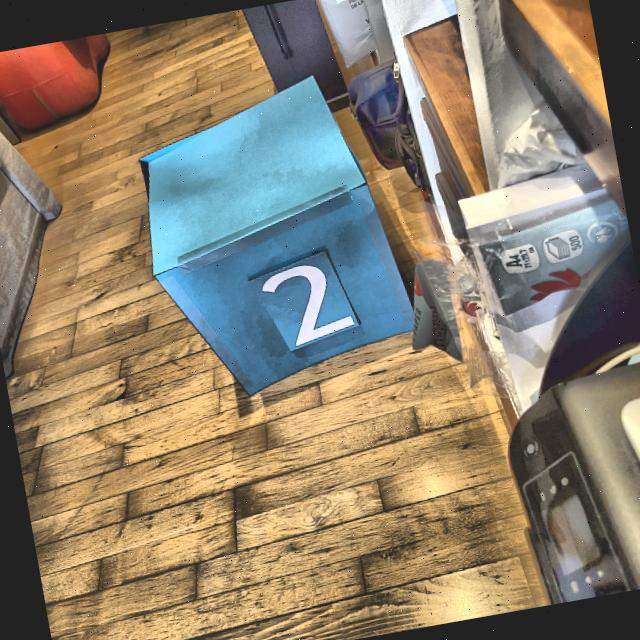blue box: (121, 61, 417, 408)
two: (251, 252, 362, 356)
